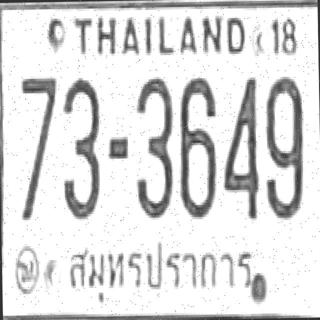N03: (133, 75, 174, 219), (60, 76, 101, 218)
N04: (220, 74, 259, 218)
N06: (178, 75, 217, 219)
N07: (19, 73, 59, 220), (20, 73, 58, 189), (19, 73, 58, 167)
N09: (263, 75, 304, 219)
P57: (61, 235, 258, 299)
